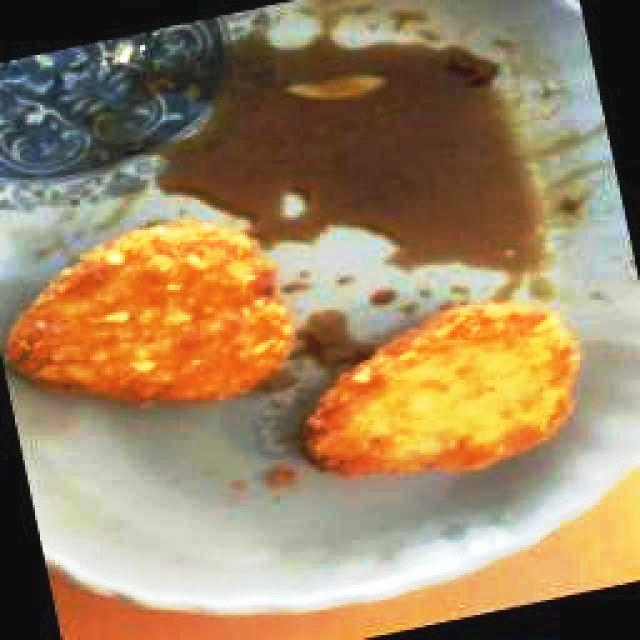Hashbrown: (8, 222, 290, 401), (302, 302, 579, 476)
